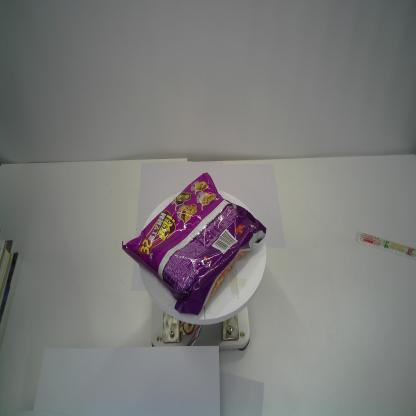Instant Noodles: (121, 171, 267, 316)
